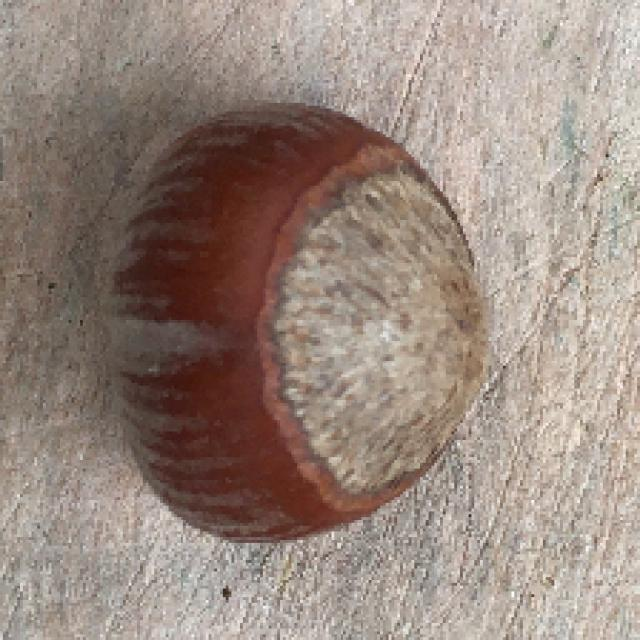qualityHazelnut: (94, 88, 490, 562)
